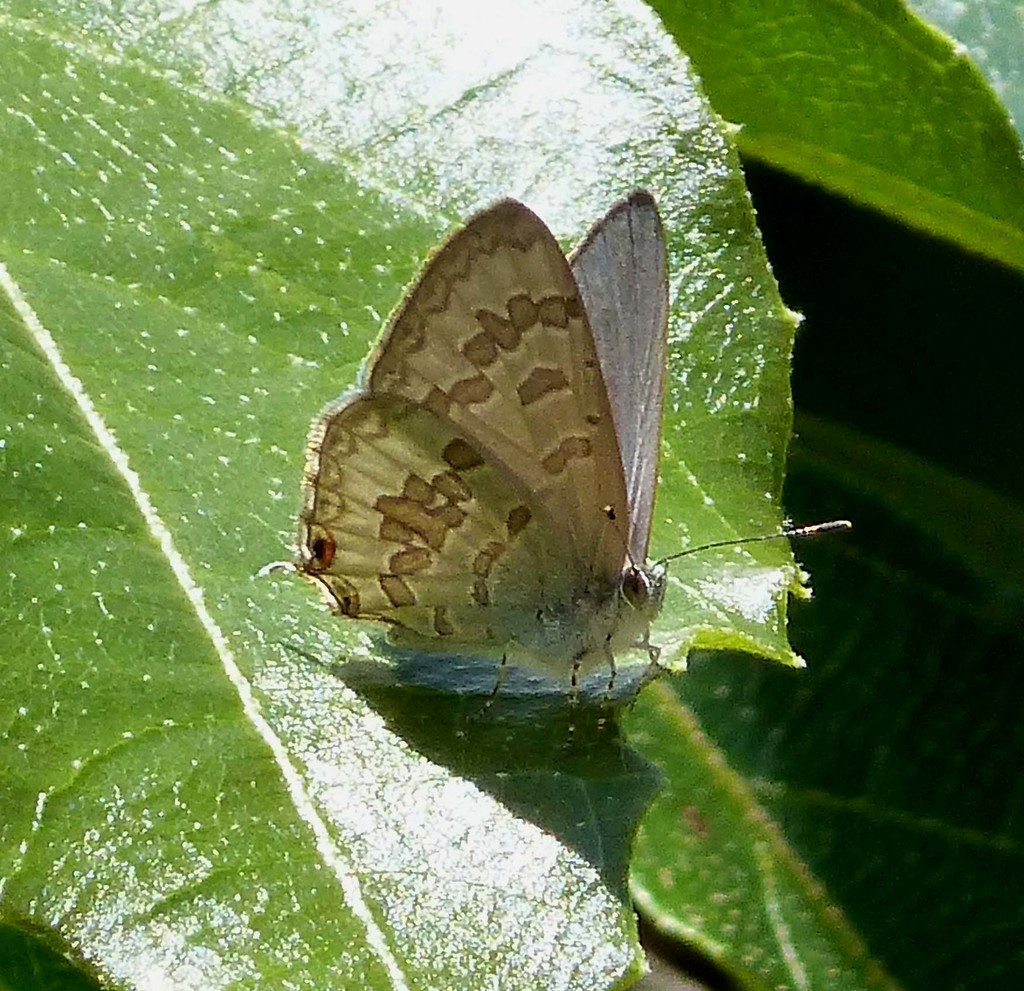Butterfly: (270, 181, 853, 757)
